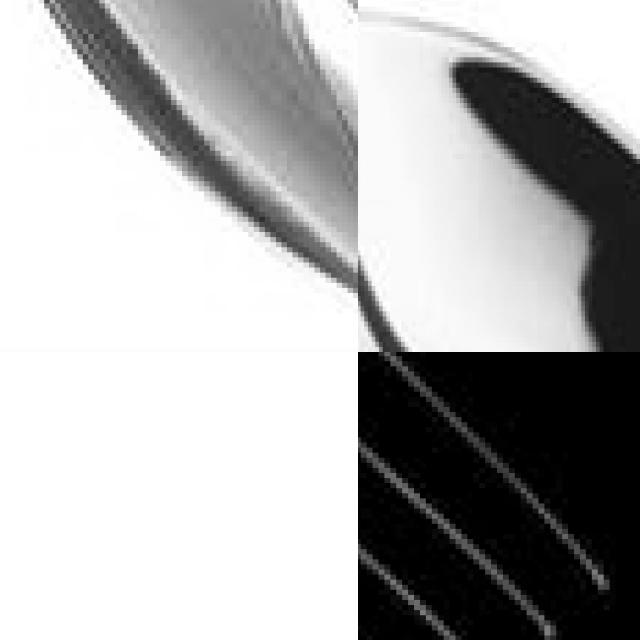forks: (358, 352, 585, 640)
spoons: (0, 0, 358, 352), (358, 0, 640, 352)
